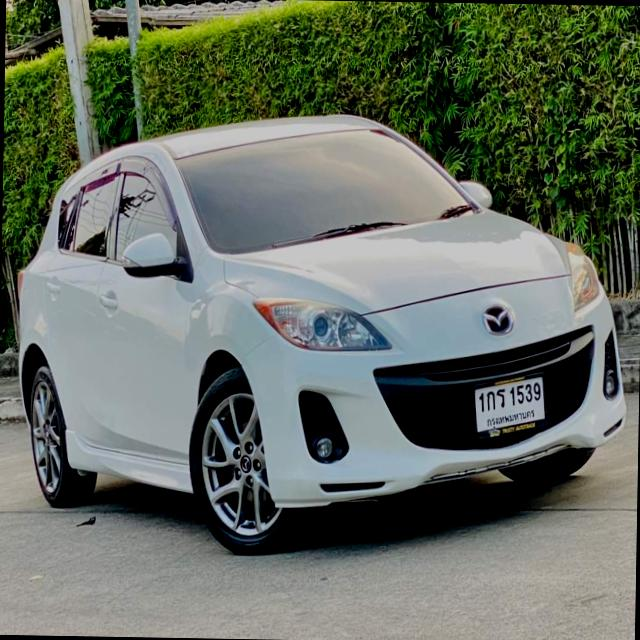license_plate: (471, 372, 548, 442)
